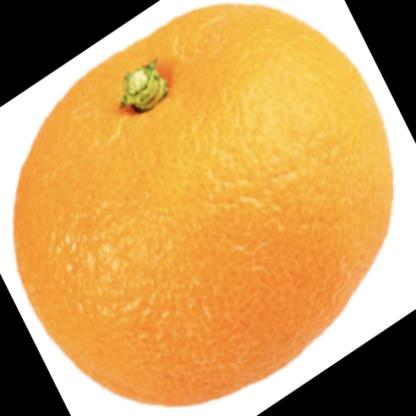fresh: (17, 2, 394, 405)
